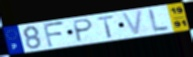8: (23, 26, 44, 50)
F: (41, 21, 66, 49)
L: (148, 8, 171, 32)
P: (73, 18, 95, 44)
T: (96, 14, 116, 40)
V: (120, 9, 145, 37)
